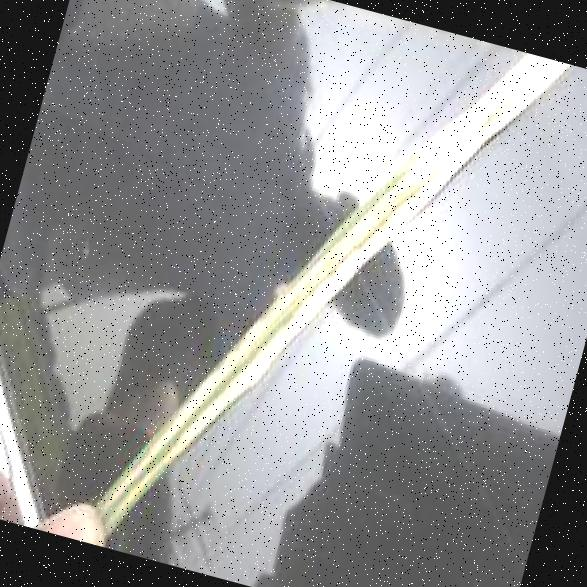Bacteria_Leaf_Blight: (102, 0, 533, 587)
